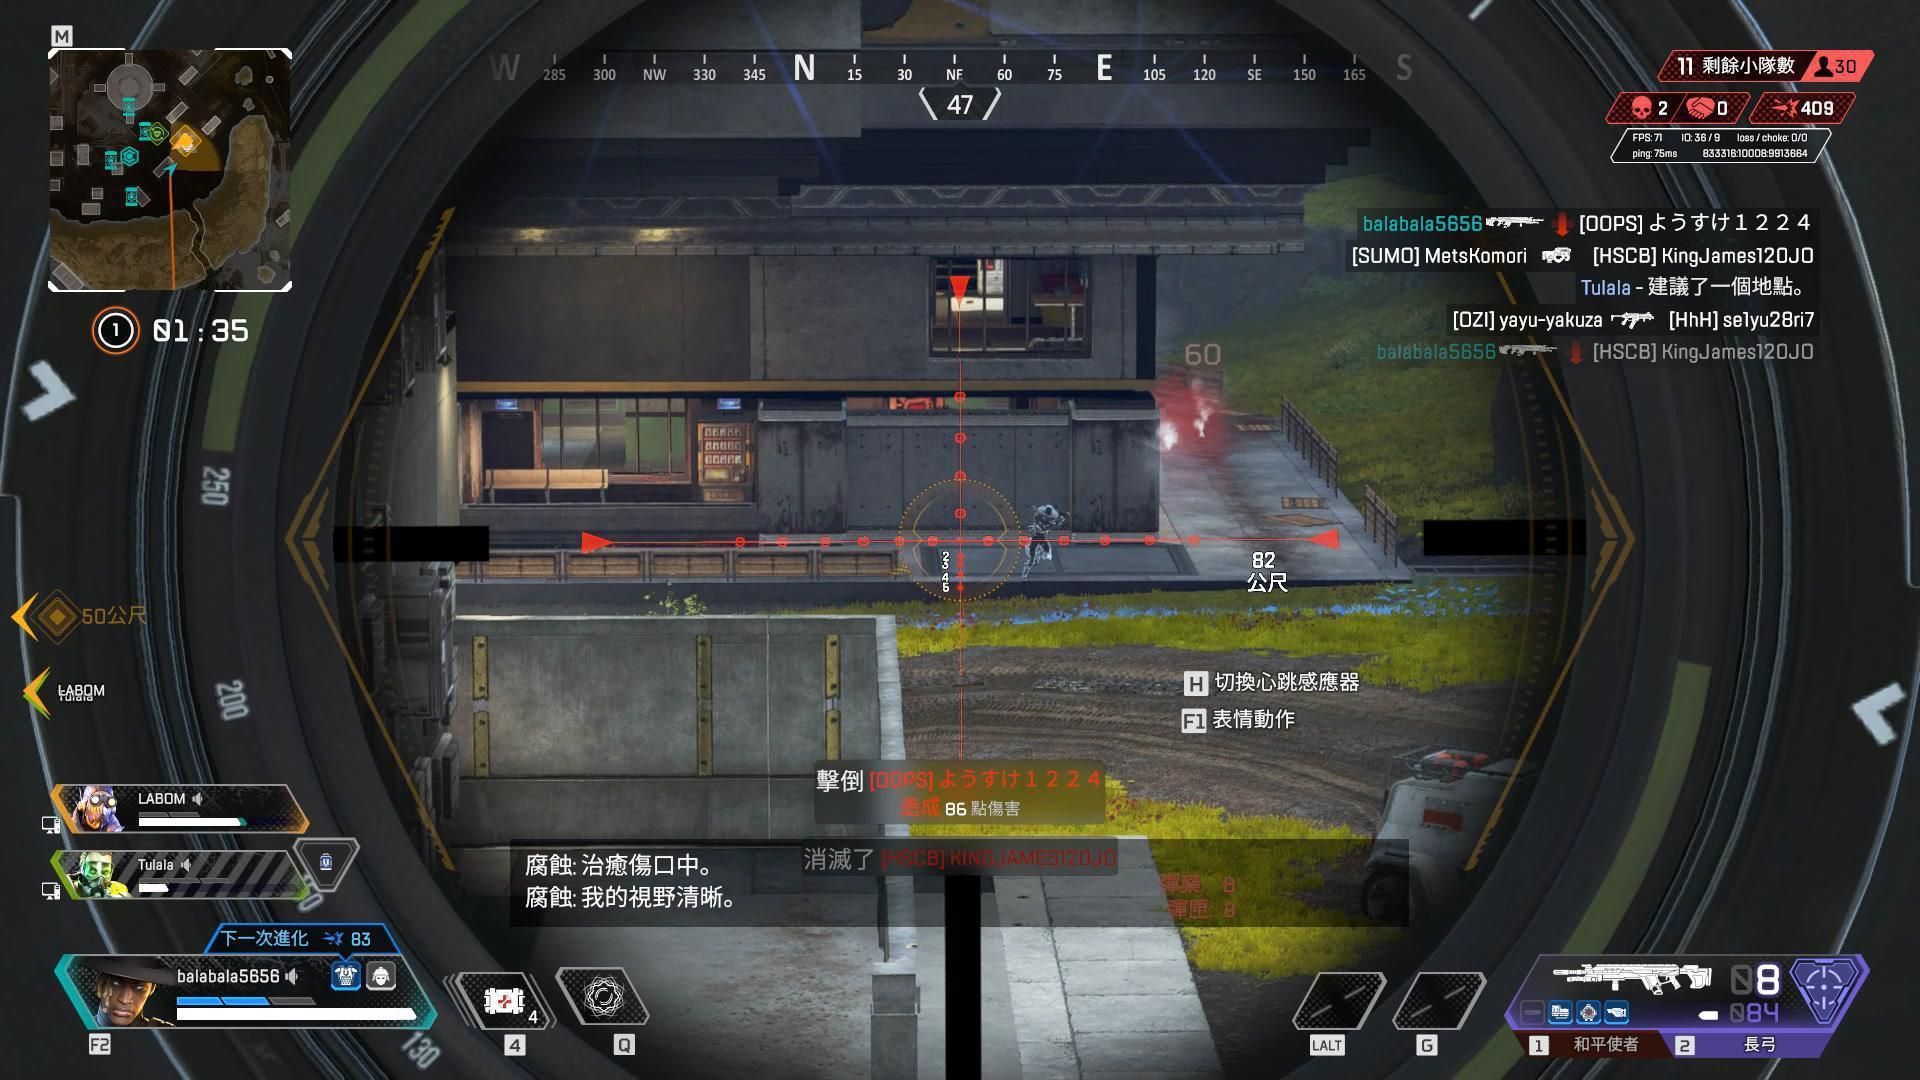avatar: (1025, 502, 1060, 566)
